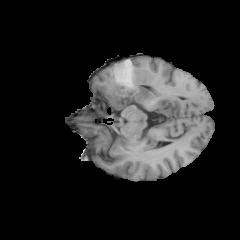glioma: (100, 59, 154, 107)
